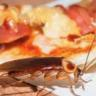cockroach: (1, 56, 82, 81)
